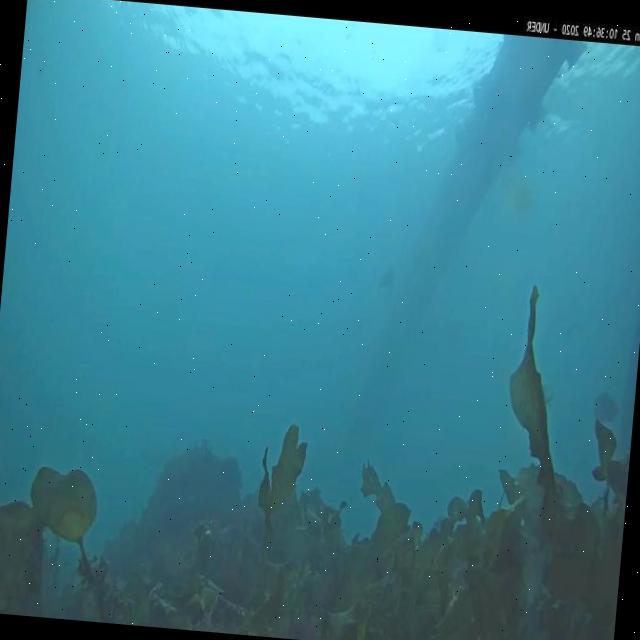fish: (587, 387, 623, 425), (378, 266, 403, 292)
